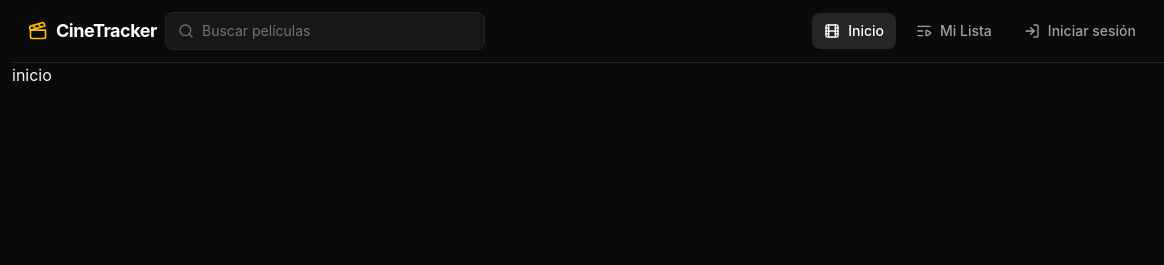
Test: Navbar suggestions › selects the highlighted suggestion with the arrow keys and Enter
Focus the dropdown labelled "Buscar películas" at (337, 31), box x1=202 y1=21 x2=472 y2=41
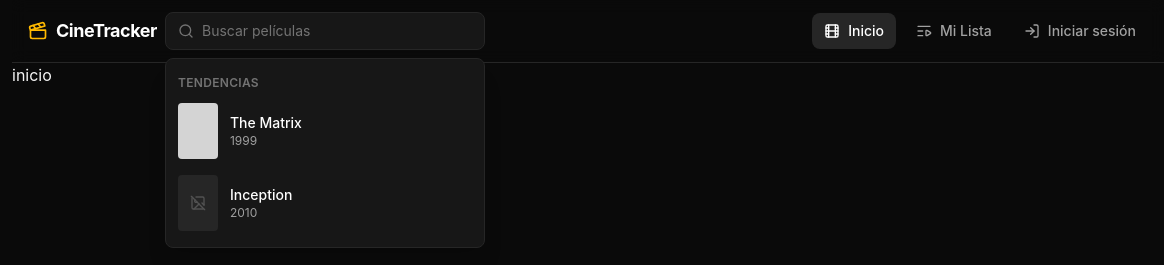
Expected: the text "Tendencias" is shown, x1=178 y1=75 x2=259 y2=90
Press ArrowDown in the dropdown labelled "Buscar películas", box x1=202 y1=21 x2=472 y2=41
Press ArrowDown in the dropdown labelled "Buscar películas", box x1=202 y1=21 x2=472 y2=41
Press Enter in the dropdown labelled "Buscar películas", box x1=202 y1=21 x2=472 y2=41
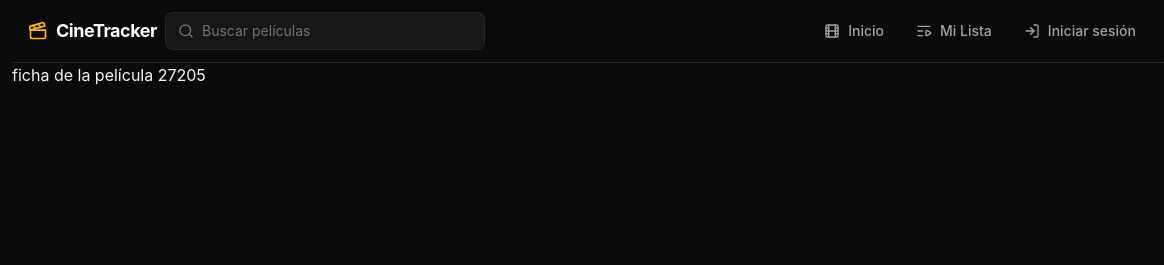
Expected: the text "ficha de la película 27205" is shown, x1=12 y1=65 x2=206 y2=85
